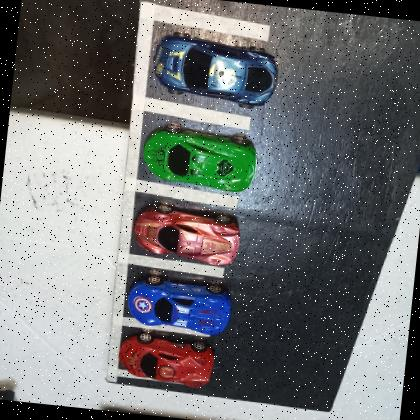Car: (149, 31, 282, 112), (137, 119, 260, 195), (129, 200, 244, 270), (123, 271, 237, 337), (116, 329, 218, 392)
